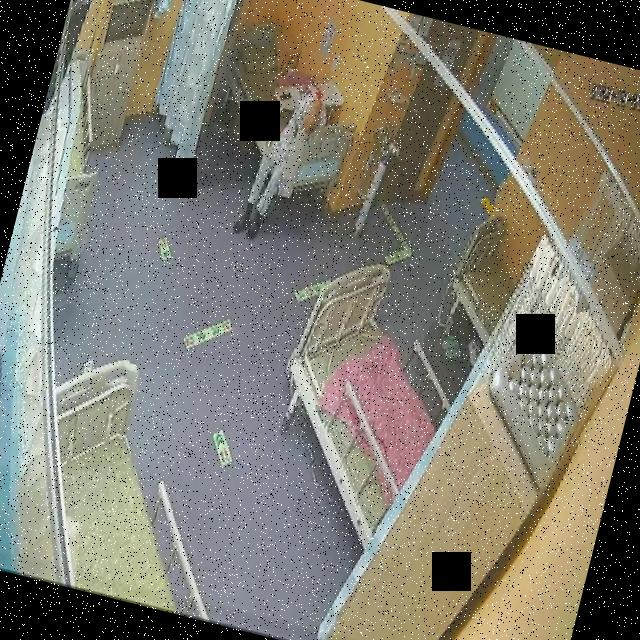bed: (8, 348, 262, 622), (252, 250, 470, 556), (196, 13, 377, 211), (438, 208, 531, 350)
patient: (223, 80, 328, 248)
sit: (222, 80, 328, 249)
